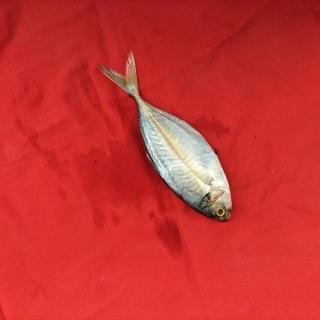Ikan: (99, 56, 244, 234)
